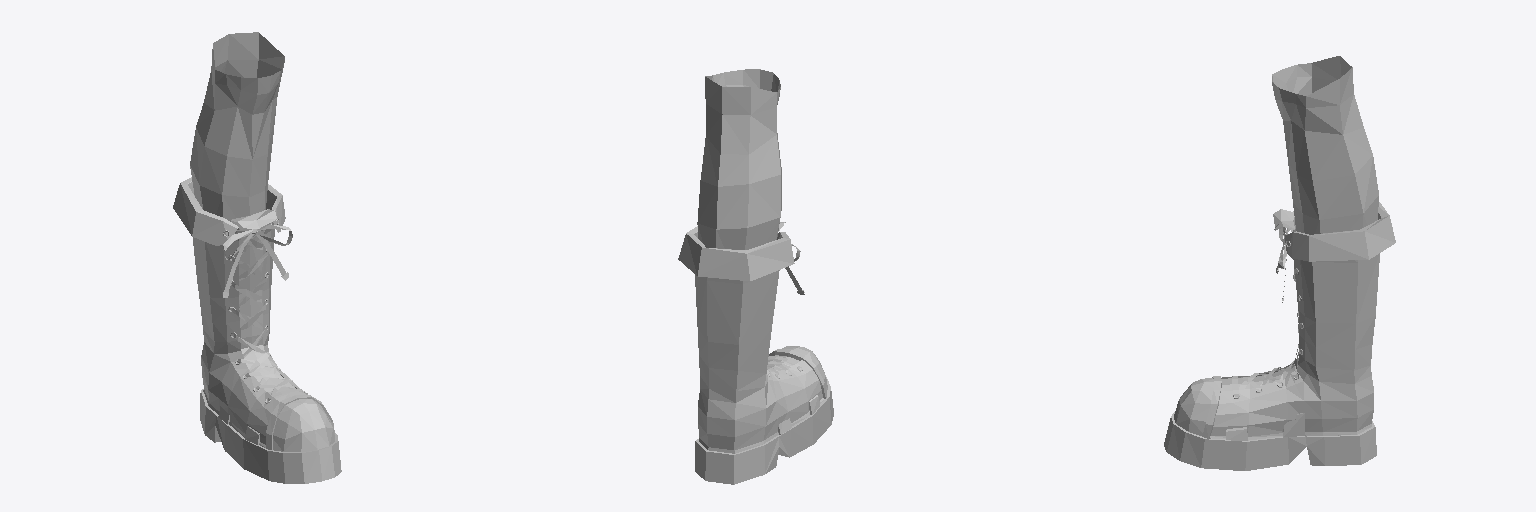
Rendered from KOSHIRO_Pie_2.obj.
3 views of the same model, side by side, from view 1: azimuth 30°, elevation 25°; view 2: azimuth 150°, elevation 25°; view 3: azimuth 270°, elevation 25° (orthographic).
Parts seen in each view (by area): view 1: Pie_2_face_Plane.008; view 2: Pie_2_face_Plane.008; view 3: Pie_2_face_Plane.008.
Boxes of the visible parts, x1=… form: Pie_2_face_Plane.008: x1=173, y1=32, x2=341, y2=483; Pie_2_face_Plane.008: x1=678, y1=69, x2=833, y2=484; Pie_2_face_Plane.008: x1=1164, y1=56, x2=1395, y2=470.
Bounding box in the file's own units: 0.1064 × 0.4353 × 0.2364.